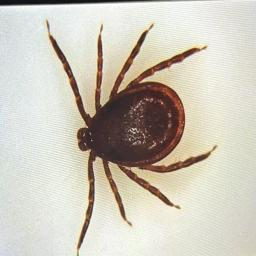Ixodes scapularis: (46, 22, 218, 256)
